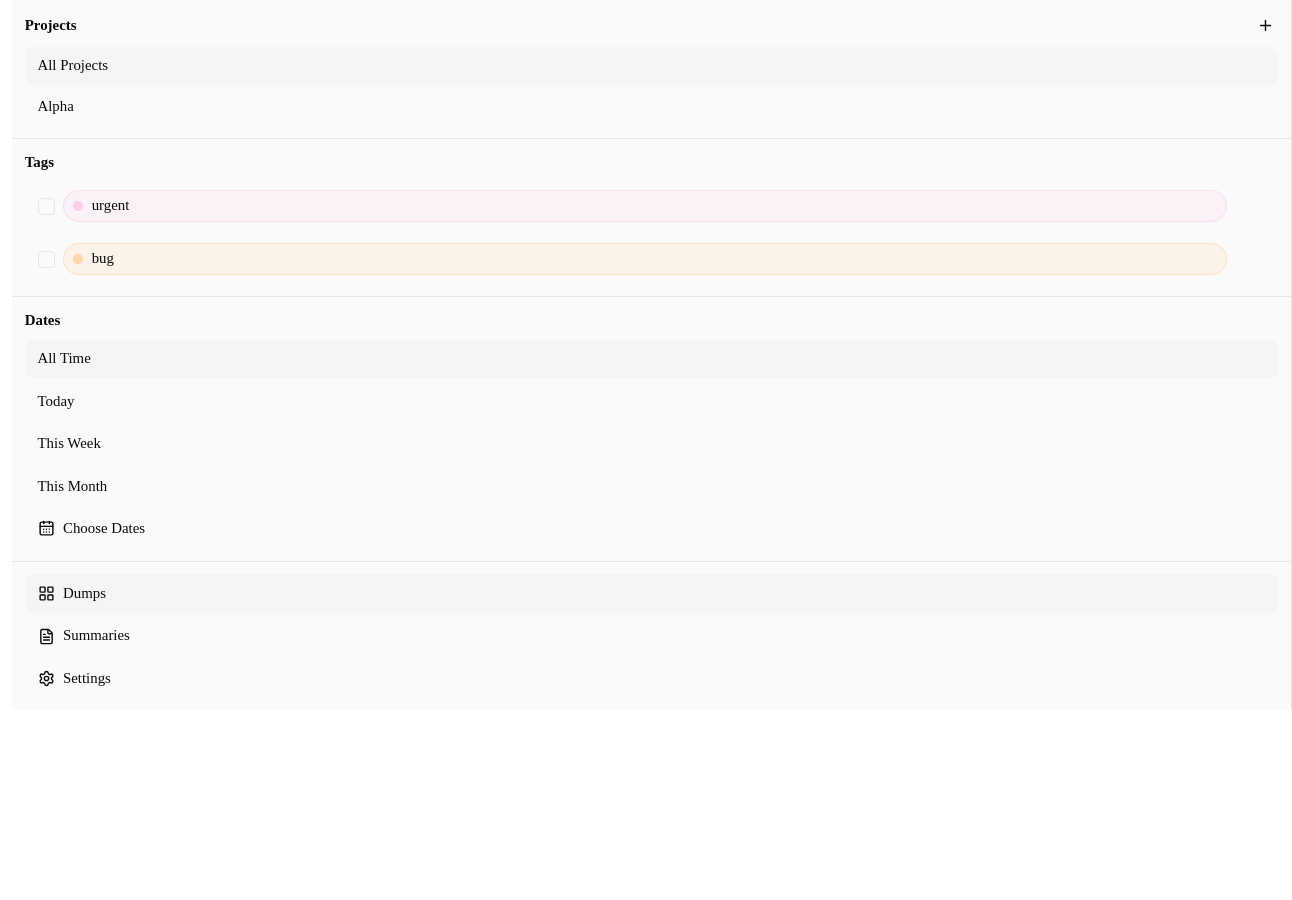
it: Sidebar › preserves the edit input when renaming fails
This screenshot has width=1292, height=900.
Right-click the button titled "Alpha" at [56, 106], box [25, 87, 1278, 125]
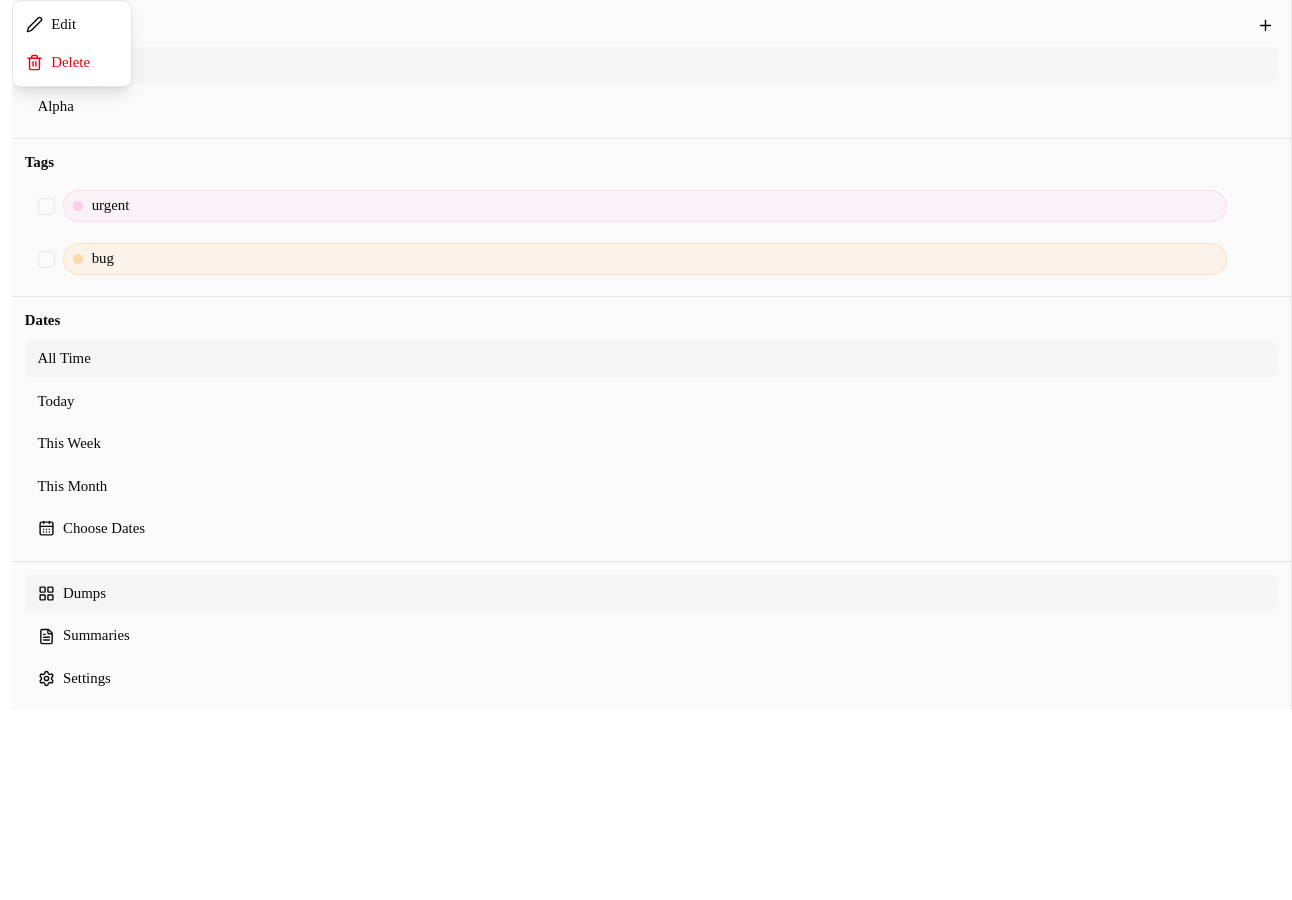
Click the button "Edit" at [72, 24], box [13, 5, 131, 44]
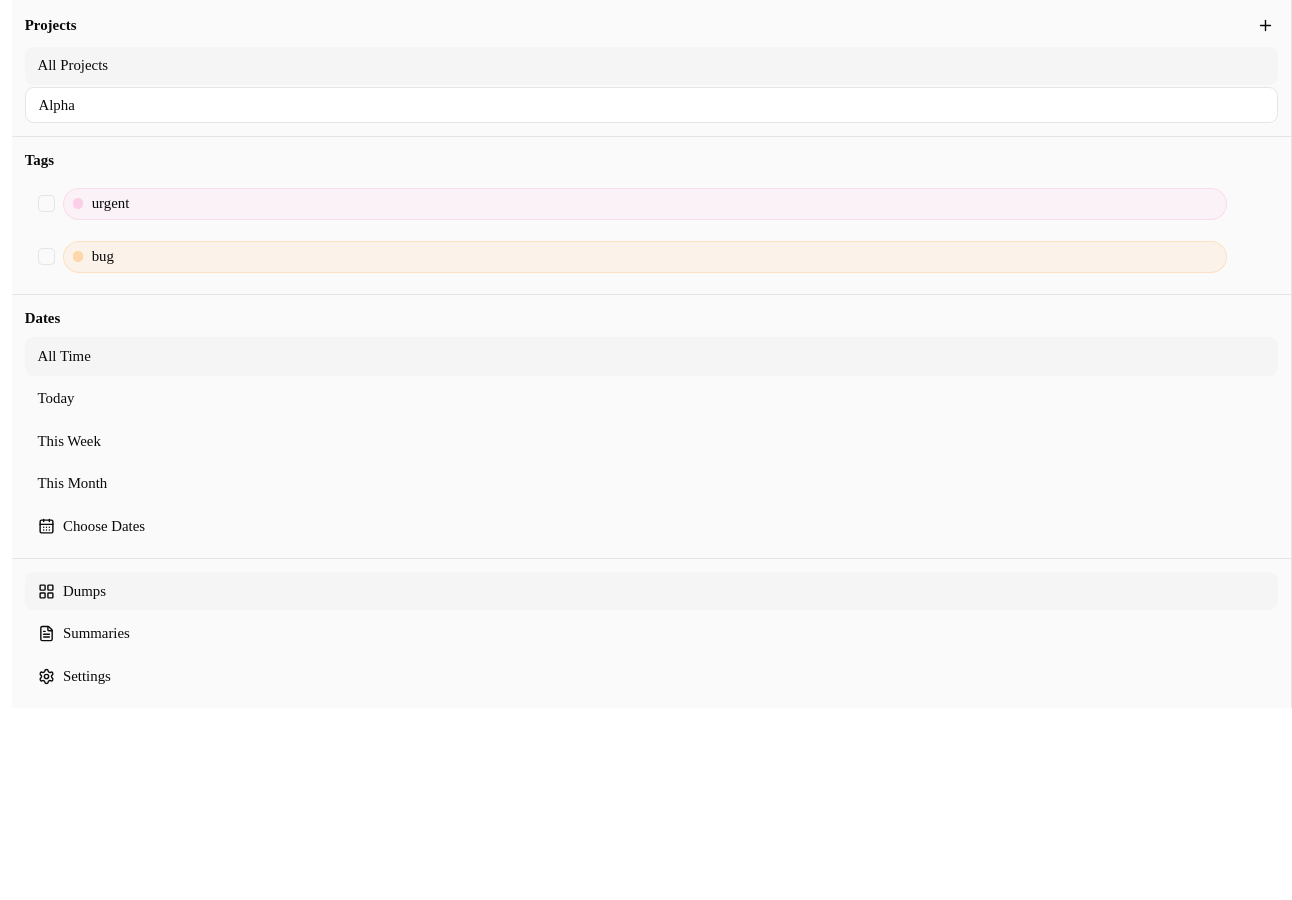
Replace the text in the field showing "Alpha" with "Alpha Draft" at [652, 105], box [25, 87, 1278, 123]
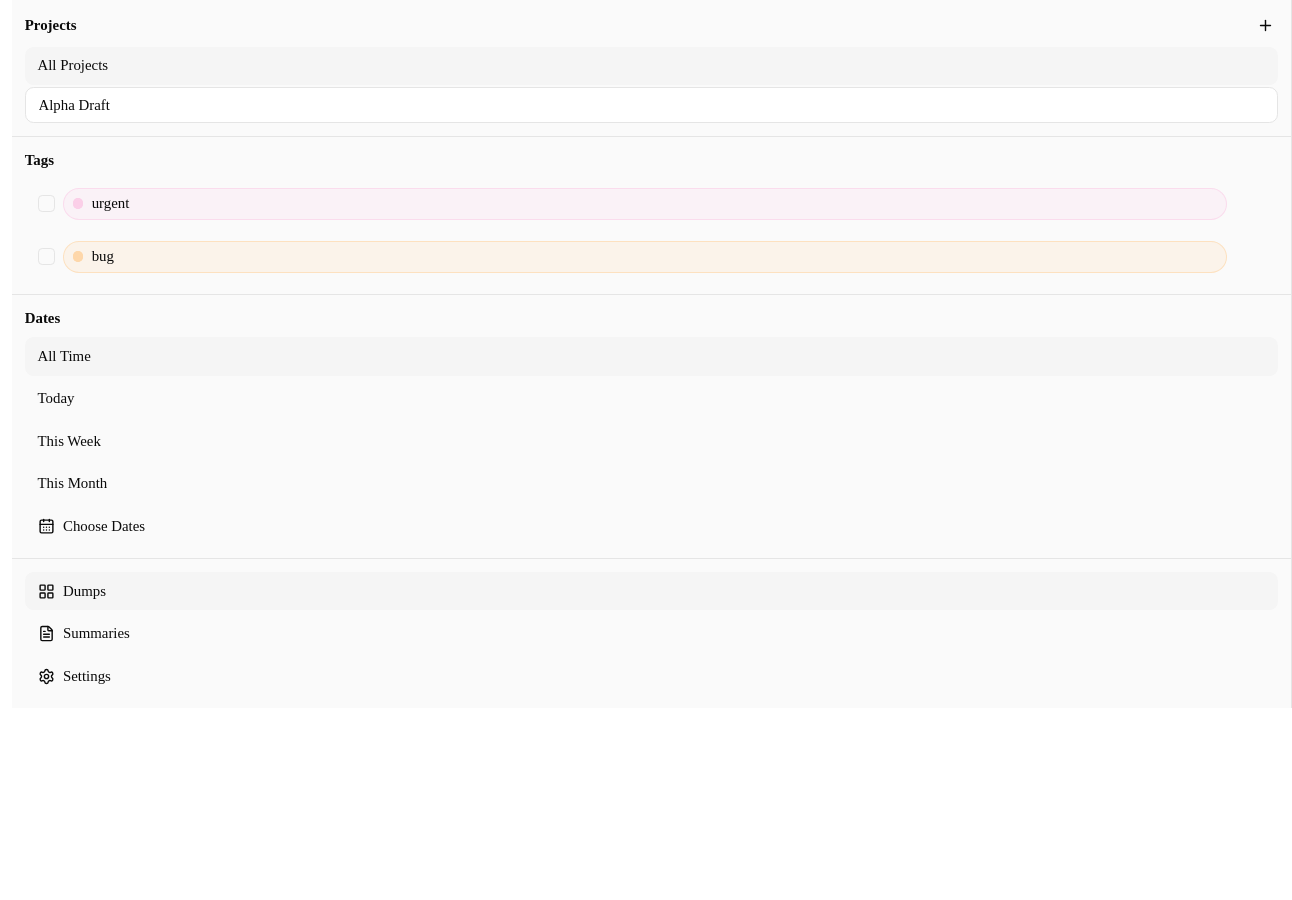
Press Enter in the field showing "Alpha", box [25, 87, 1278, 123]
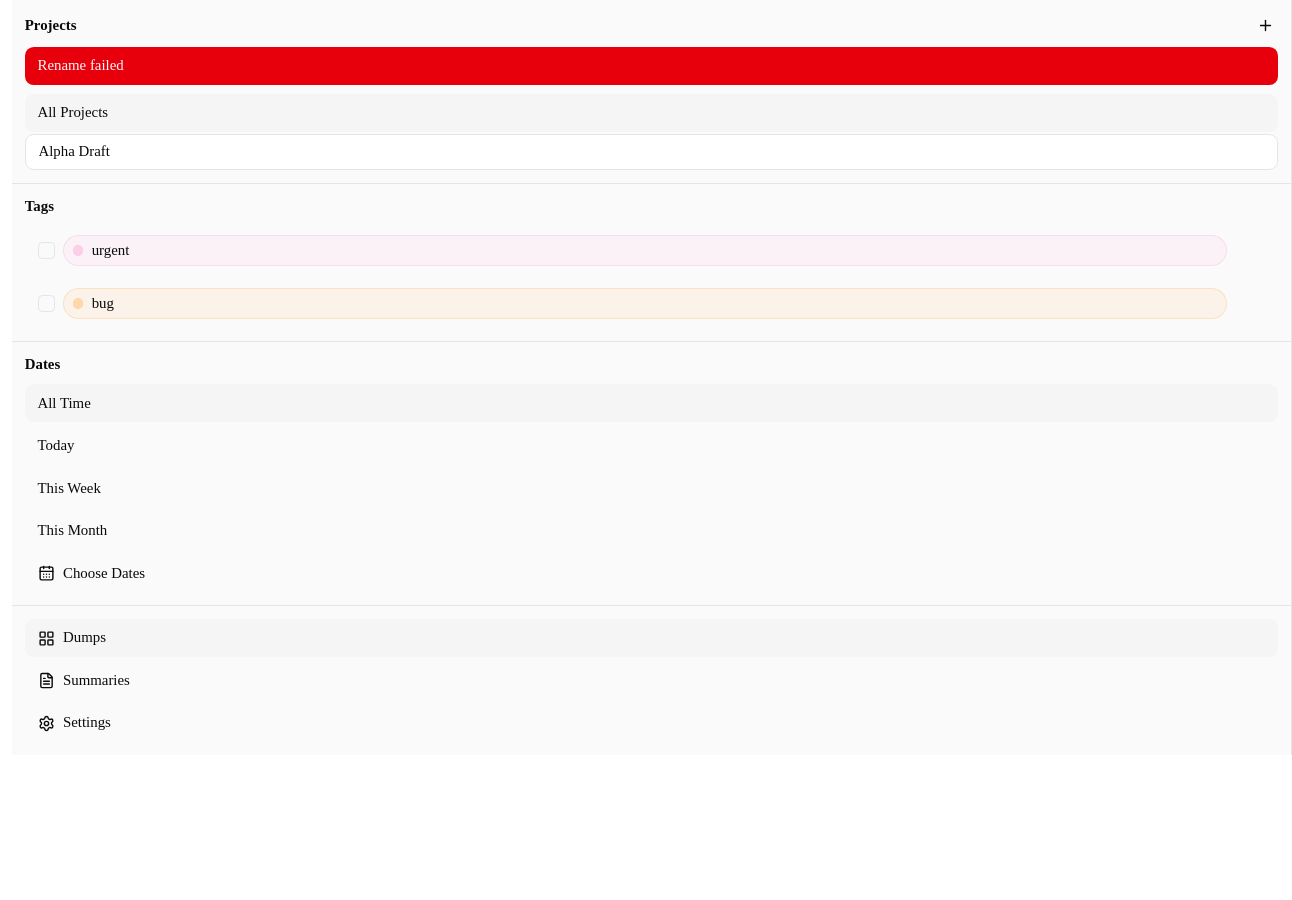
Now the text "Rename failed" is shown, box [25, 47, 1278, 85]
